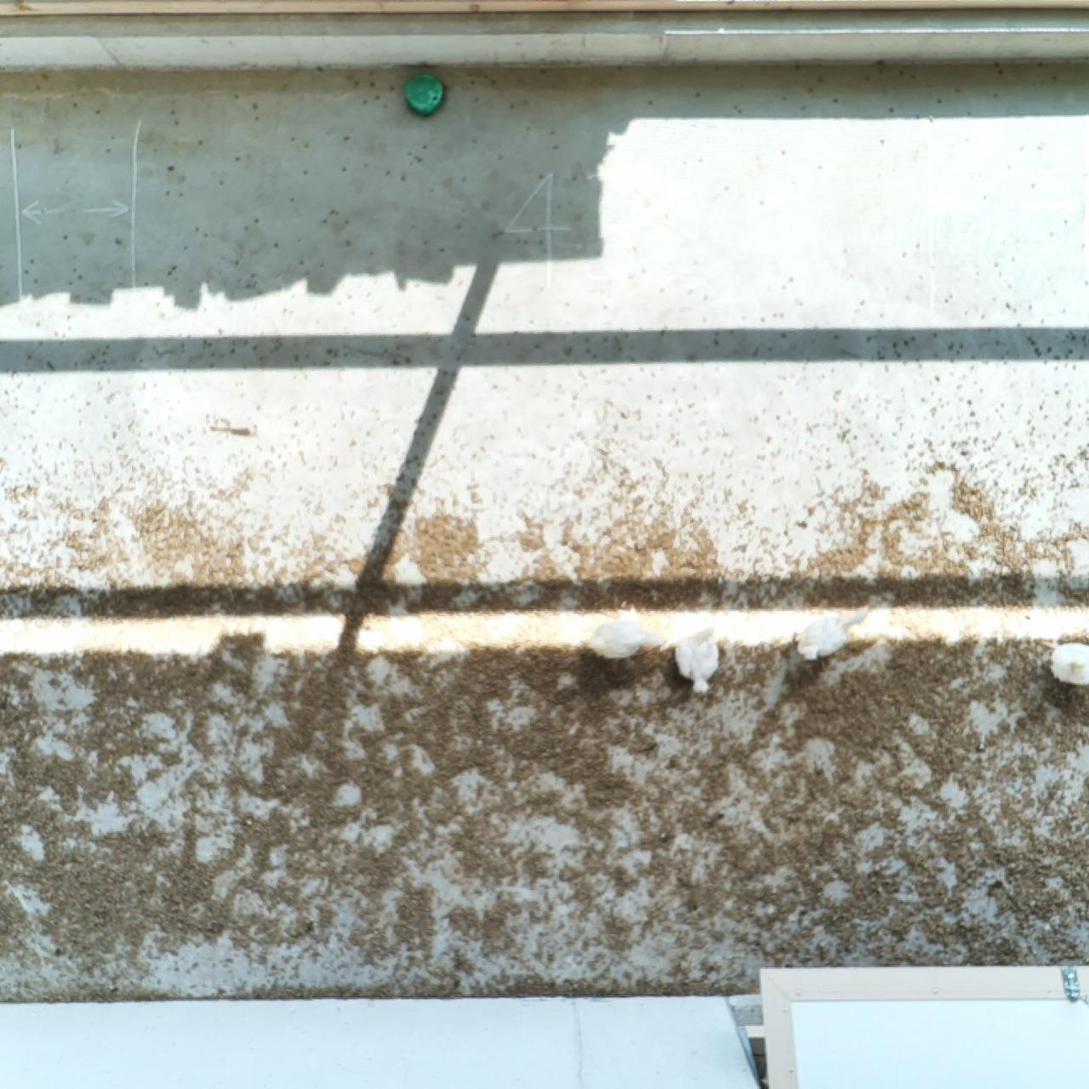chicken: (789, 601, 875, 667), (669, 621, 724, 698), (583, 616, 665, 664), (1036, 633, 1089, 689)
